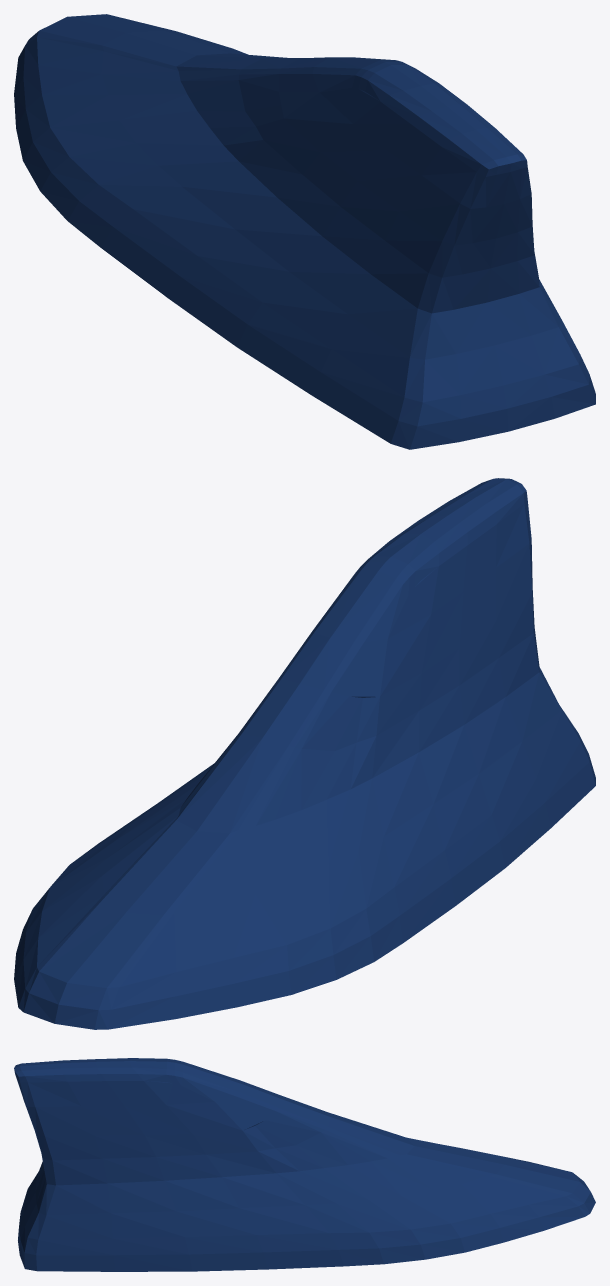
The model's file is antenna.glb.
3 renders of one model, top to bottom at view 1: azimuth 30°, elevation 25°; view 2: azimuth 150°, elevation 25°; view 3: azimuth 270°, elevation 25°, orthographic. The views are drawn at different scales.
Visible parts, largest first — view 1: Antenna; view 2: Antenna; view 3: Antenna.
Boxes of the visible parts, x1=… form: Antenna: x1=14, y1=14, x2=595, y2=449; Antenna: x1=14, y1=478, x2=595, y2=1029; Antenna: x1=14, y1=1058, x2=595, y2=1271.
Size of the model in its own units: 0.0676 by 0.0595 by 0.1743.
